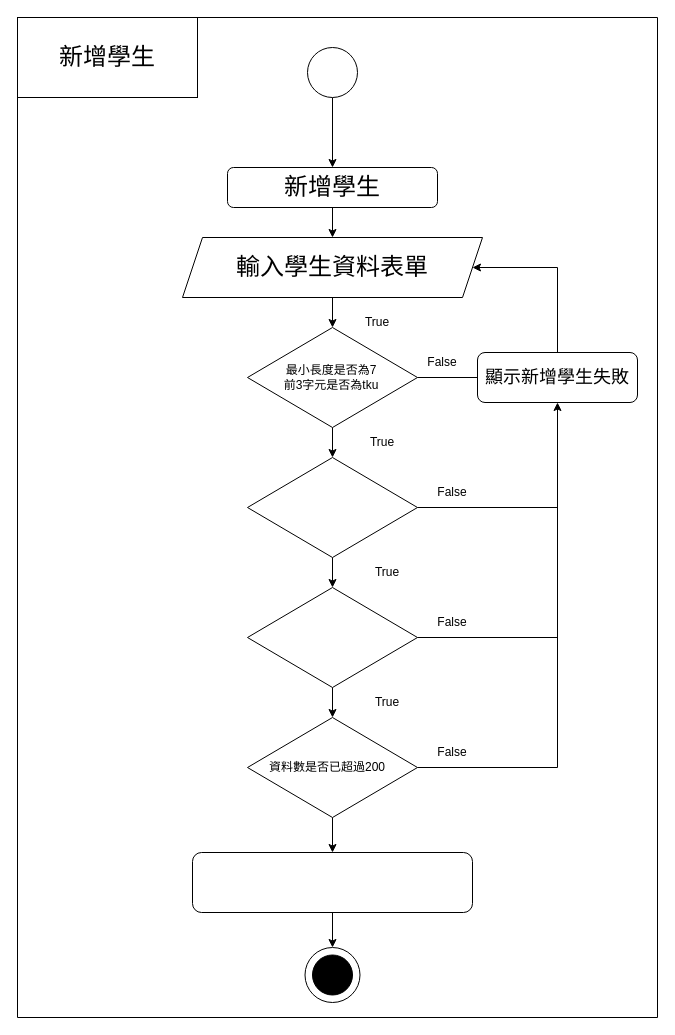
Some shapes in this 675 by 1035 pixel diagram are drawn without their labels. Each missing label, with the centre of its shape:
座號是否為4位數字: pixel 332 507
座號是否重複: pixel 332 637
顯示成功新增學生: pixel 332 882
